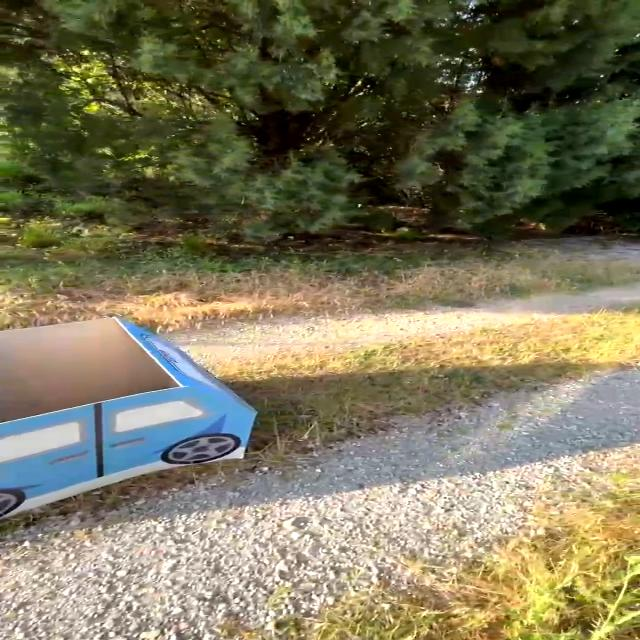blue_car: (0, 283, 306, 535)
